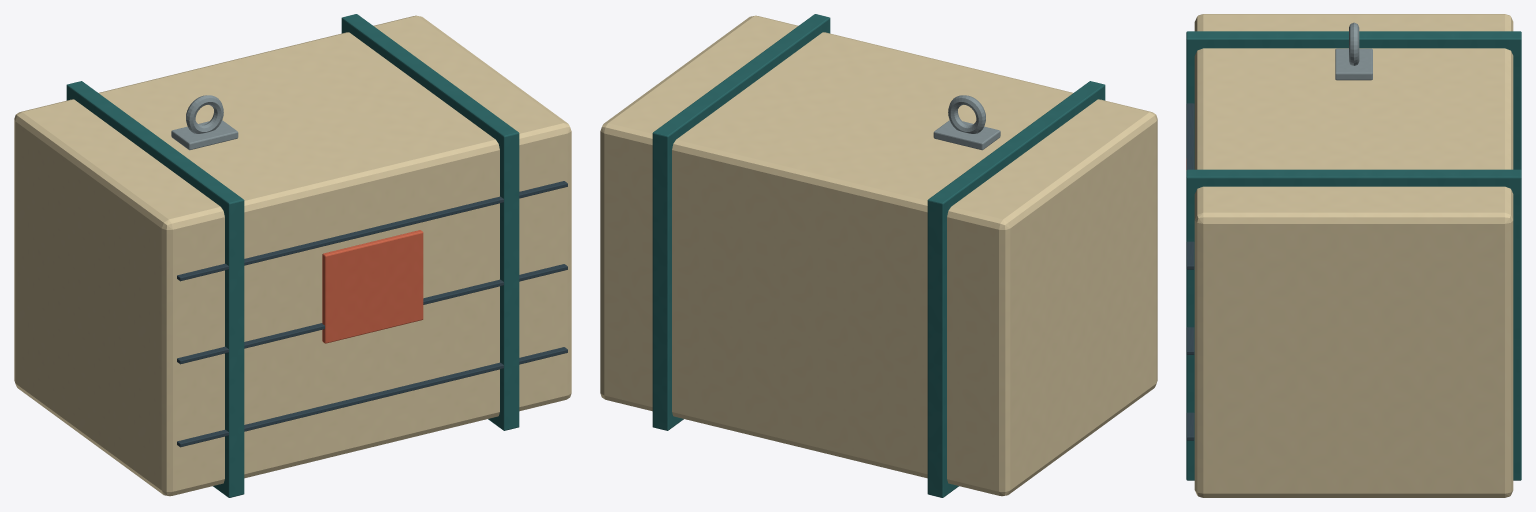
Rendered from crate-lod-0.glb.
The picture shows the model from 3 angles, left to right: view 1: azimuth 30°, elevation 25°; view 2: azimuth 150°, elevation 25°; view 3: azimuth 270°, elevation 25°; orthographic projection. The views are drawn at different scales.
Parts seen in each view (by area): view 1: crate_lod_0; view 2: crate_lod_0; view 3: crate_lod_0.
Boxes of the visible parts, x1,y1,x2,y2 form: crate_lod_0: (14,14,571,497); crate_lod_0: (600,14,1157,497); crate_lod_0: (1186,14,1521,497).
Bounding box in the file's own units: 2.32 × 1.97 × 1.6.
1 material, 1 textured.
